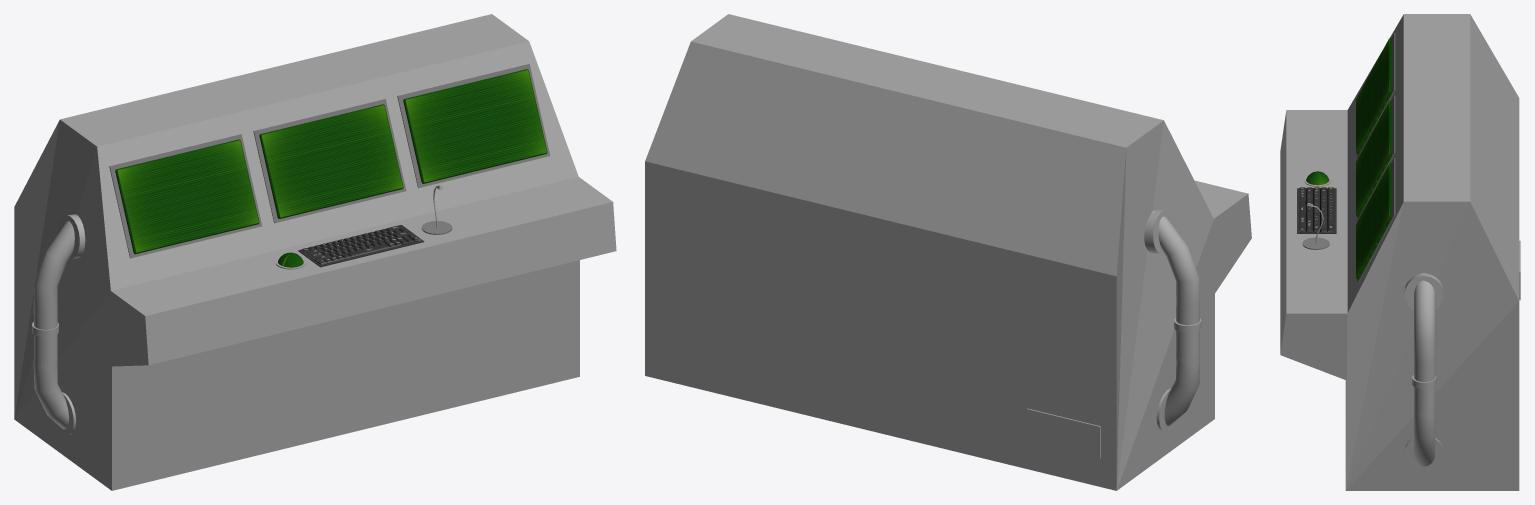
The model's file is Computer.fbx.
3 views of the same model, side by side, from view 1: azimuth 30°, elevation 25°; view 2: azimuth 150°, elevation 25°; view 3: azimuth 270°, elevation 25° (orthographic). The views are drawn at different scales.
Visible parts, largest first — view 1: polySurface6, Computer_Screen1 (×3), screen_outline (×3), pipe_L, keyboard_keys; view 2: polySurface6, pipe_L, exhaust, pipe_ring_U; view 3: polySurface6, Computer_Screen1 (×3), pipe_L, keyboard_keys, screen_outline (×3), pipe_ring_U, pipe_ring_D, keyboard_foot, mic_foot.
Boxes of the visible parts, left/top/right/bottom form: polySurface6: left=14, top=14, right=616, bottom=490; Computer_Screen1 (×3): left=115, top=69, right=547, bottom=254; screen_outline (×3): left=109, top=64, right=550, bottom=258; pipe_L: left=33, top=214, right=77, bottom=429; keyboard_keys: left=301, top=225, right=420, bottom=264; polySurface6: left=645, top=14, right=1251, bottom=490; pipe_L: left=1151, top=210, right=1199, bottom=426; exhaust: left=1026, top=408, right=1100, bottom=458; pipe_ring_U: left=1144, top=209, right=1175, bottom=254; polySurface6: left=1280, top=14, right=1519, bottom=490; Computer_Screen1 (×3): left=1356, top=37, right=1392, bottom=279; pipe_L: left=1414, top=273, right=1435, bottom=466; keyboard_keys: left=1299, top=187, right=1334, bottom=232; screen_outline (×3): left=1357, top=32, right=1395, bottom=283; pipe_ring_U: left=1404, top=273, right=1443, bottom=310; pipe_ring_D: left=1404, top=437, right=1443, bottom=471; keyboard_foot: left=1297, top=188, right=1336, bottom=233; mic_foot: left=1302, top=237, right=1329, bottom=249.
Bounding box in the file's own units: 7.3 × 4.15 × 3.21.
